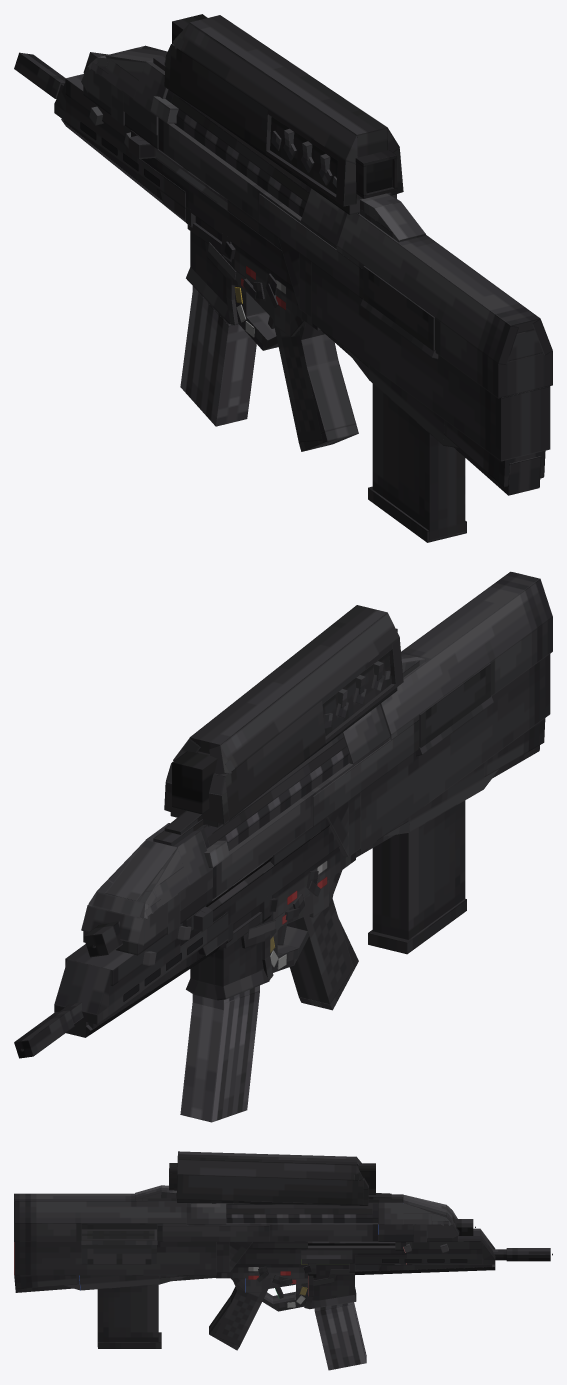
3 renders of one model, top to bottom at view 1: azimuth 30°, elevation 25°; view 2: azimuth 150°, elevation 25°; view 3: azimuth 270°, elevation 25°, orthographic. The views are drawn at different scales.
Visible parts, largest first — view 1: gun, xm29scope, magazinegrenade, magazine, bolt, scopepip; view 2: gun, xm29scope, magazinegrenade, magazine; view 3: gun, xm29scope, magazinegrenade, magazine, action, bolt.
Part boxes in pixels (x1=…): gun: x1=14, y1=45, x2=552, y2=495; xm29scope: x1=164, y1=14, x2=403, y2=214; magazinegrenade: x1=368, y1=384, x2=466, y2=542; magazine: x1=180, y1=286, x2=256, y2=426; bolt: x1=128, y1=135, x2=227, y2=202; scopepip: x1=366, y1=159, x2=392, y2=193; gun: x1=14, y1=571, x2=552, y2=1058; xm29scope: x1=164, y1=605, x2=403, y2=827; magazinegrenade: x1=368, y1=800, x2=466, y2=954; magazine: x1=180, y1=985, x2=259, y2=1122; gun: x1=14, y1=1185, x2=550, y2=1350; xm29scope: x1=169, y1=1151, x2=375, y2=1205; magazinegrenade: x1=97, y1=1284, x2=161, y2=1348; magazine: x1=314, y1=1302, x2=366, y2=1370; action: x1=301, y1=1250, x2=352, y2=1258; bolt: x1=308, y1=1241, x2=395, y2=1245.
Size of the model in its own units: 52.85 by 263 by 609.
